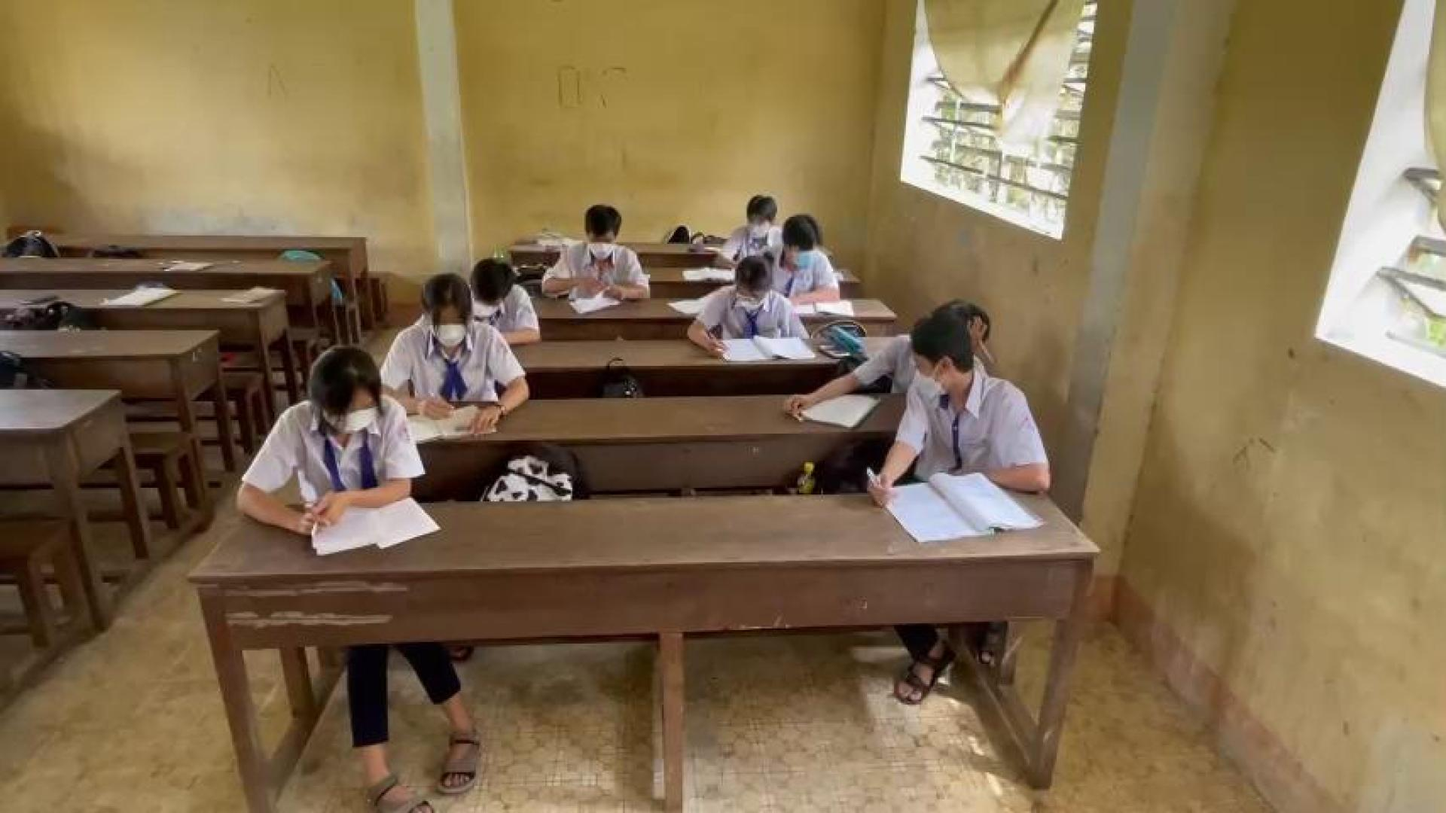Hand Under Table: (770, 293, 808, 346)
Look Around: (892, 308, 975, 402)
